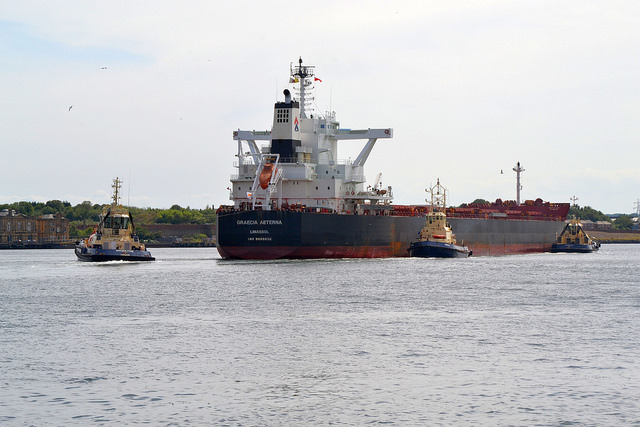bulk carrier: (217, 59, 569, 260)
tug_boat: (79, 180, 159, 262), (414, 194, 471, 256), (552, 200, 603, 254)
